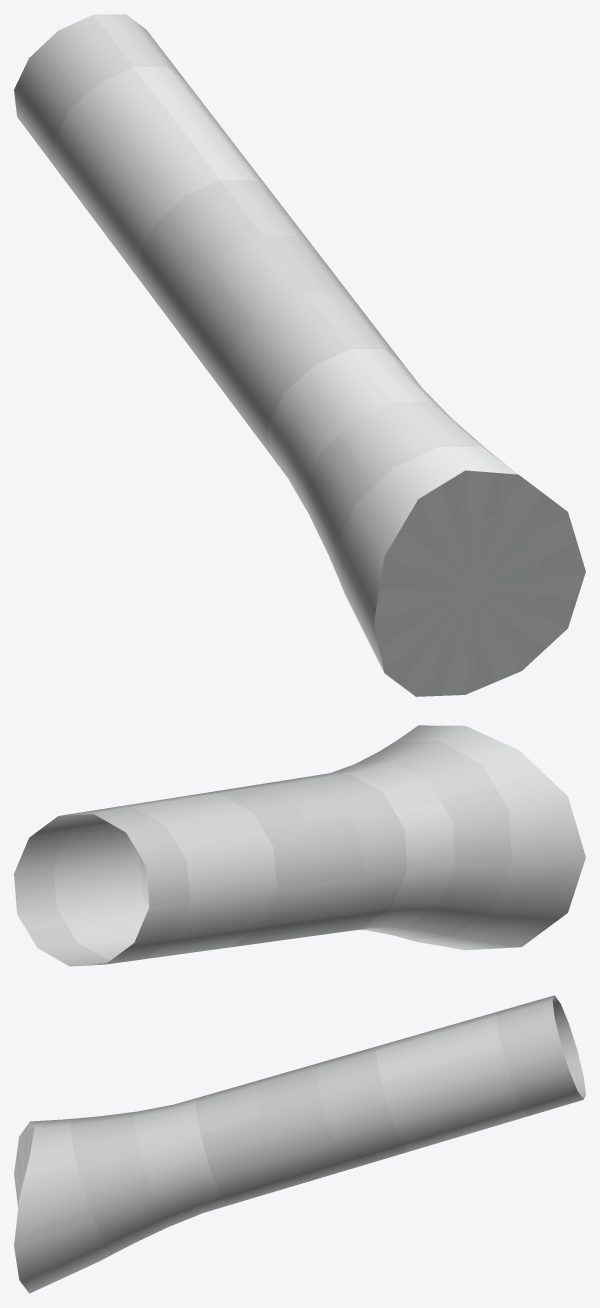
Rendered from luminairearm_caltrans12ftstraight_c0.obj.
The picture shows the model from 3 angles, top to bottom: view 1: azimuth 30°, elevation 25°; view 2: azimuth 150°, elevation 25°; view 3: azimuth 270°, elevation 25°; orthographic projection. The views are drawn at different scales.
Visible parts, largest first — view 1: luminairearm_caltrans12ftstraight_c0; view 2: luminairearm_caltrans12ftstraight_c0; view 3: luminairearm_caltrans12ftstraight_c0.
Part boxes in pixels (bbox=[...]): luminairearm_caltrans12ftstraight_c0: bbox=[14, 14, 585, 696]; luminairearm_caltrans12ftstraight_c0: bbox=[14, 725, 585, 966]; luminairearm_caltrans12ftstraight_c0: bbox=[14, 995, 585, 1293].
Bounding box in the file's own units: 0.3375 × 0.6212 × 1.13.
